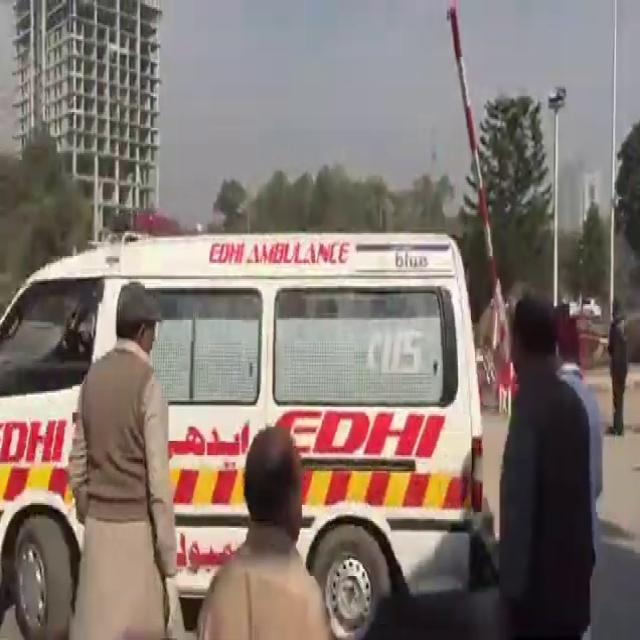ambulance: (3, 233, 486, 606)
